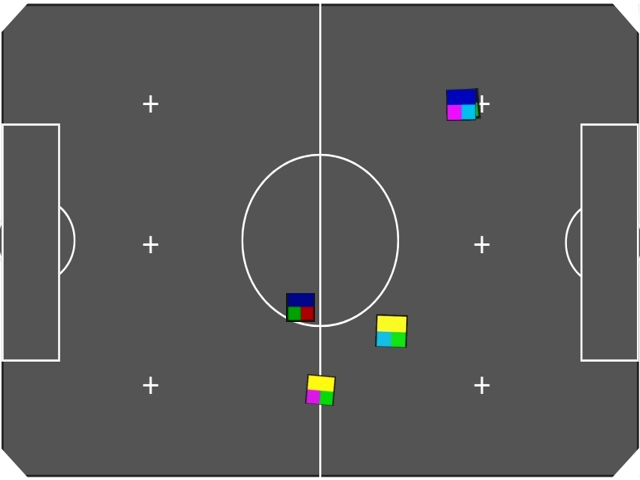pattern1: (448, 88, 481, 121)
pattern10: (446, 89, 476, 121)
pattern17: (375, 314, 408, 348)
pattern19: (305, 374, 336, 406)
pattern3: (286, 293, 315, 322)
